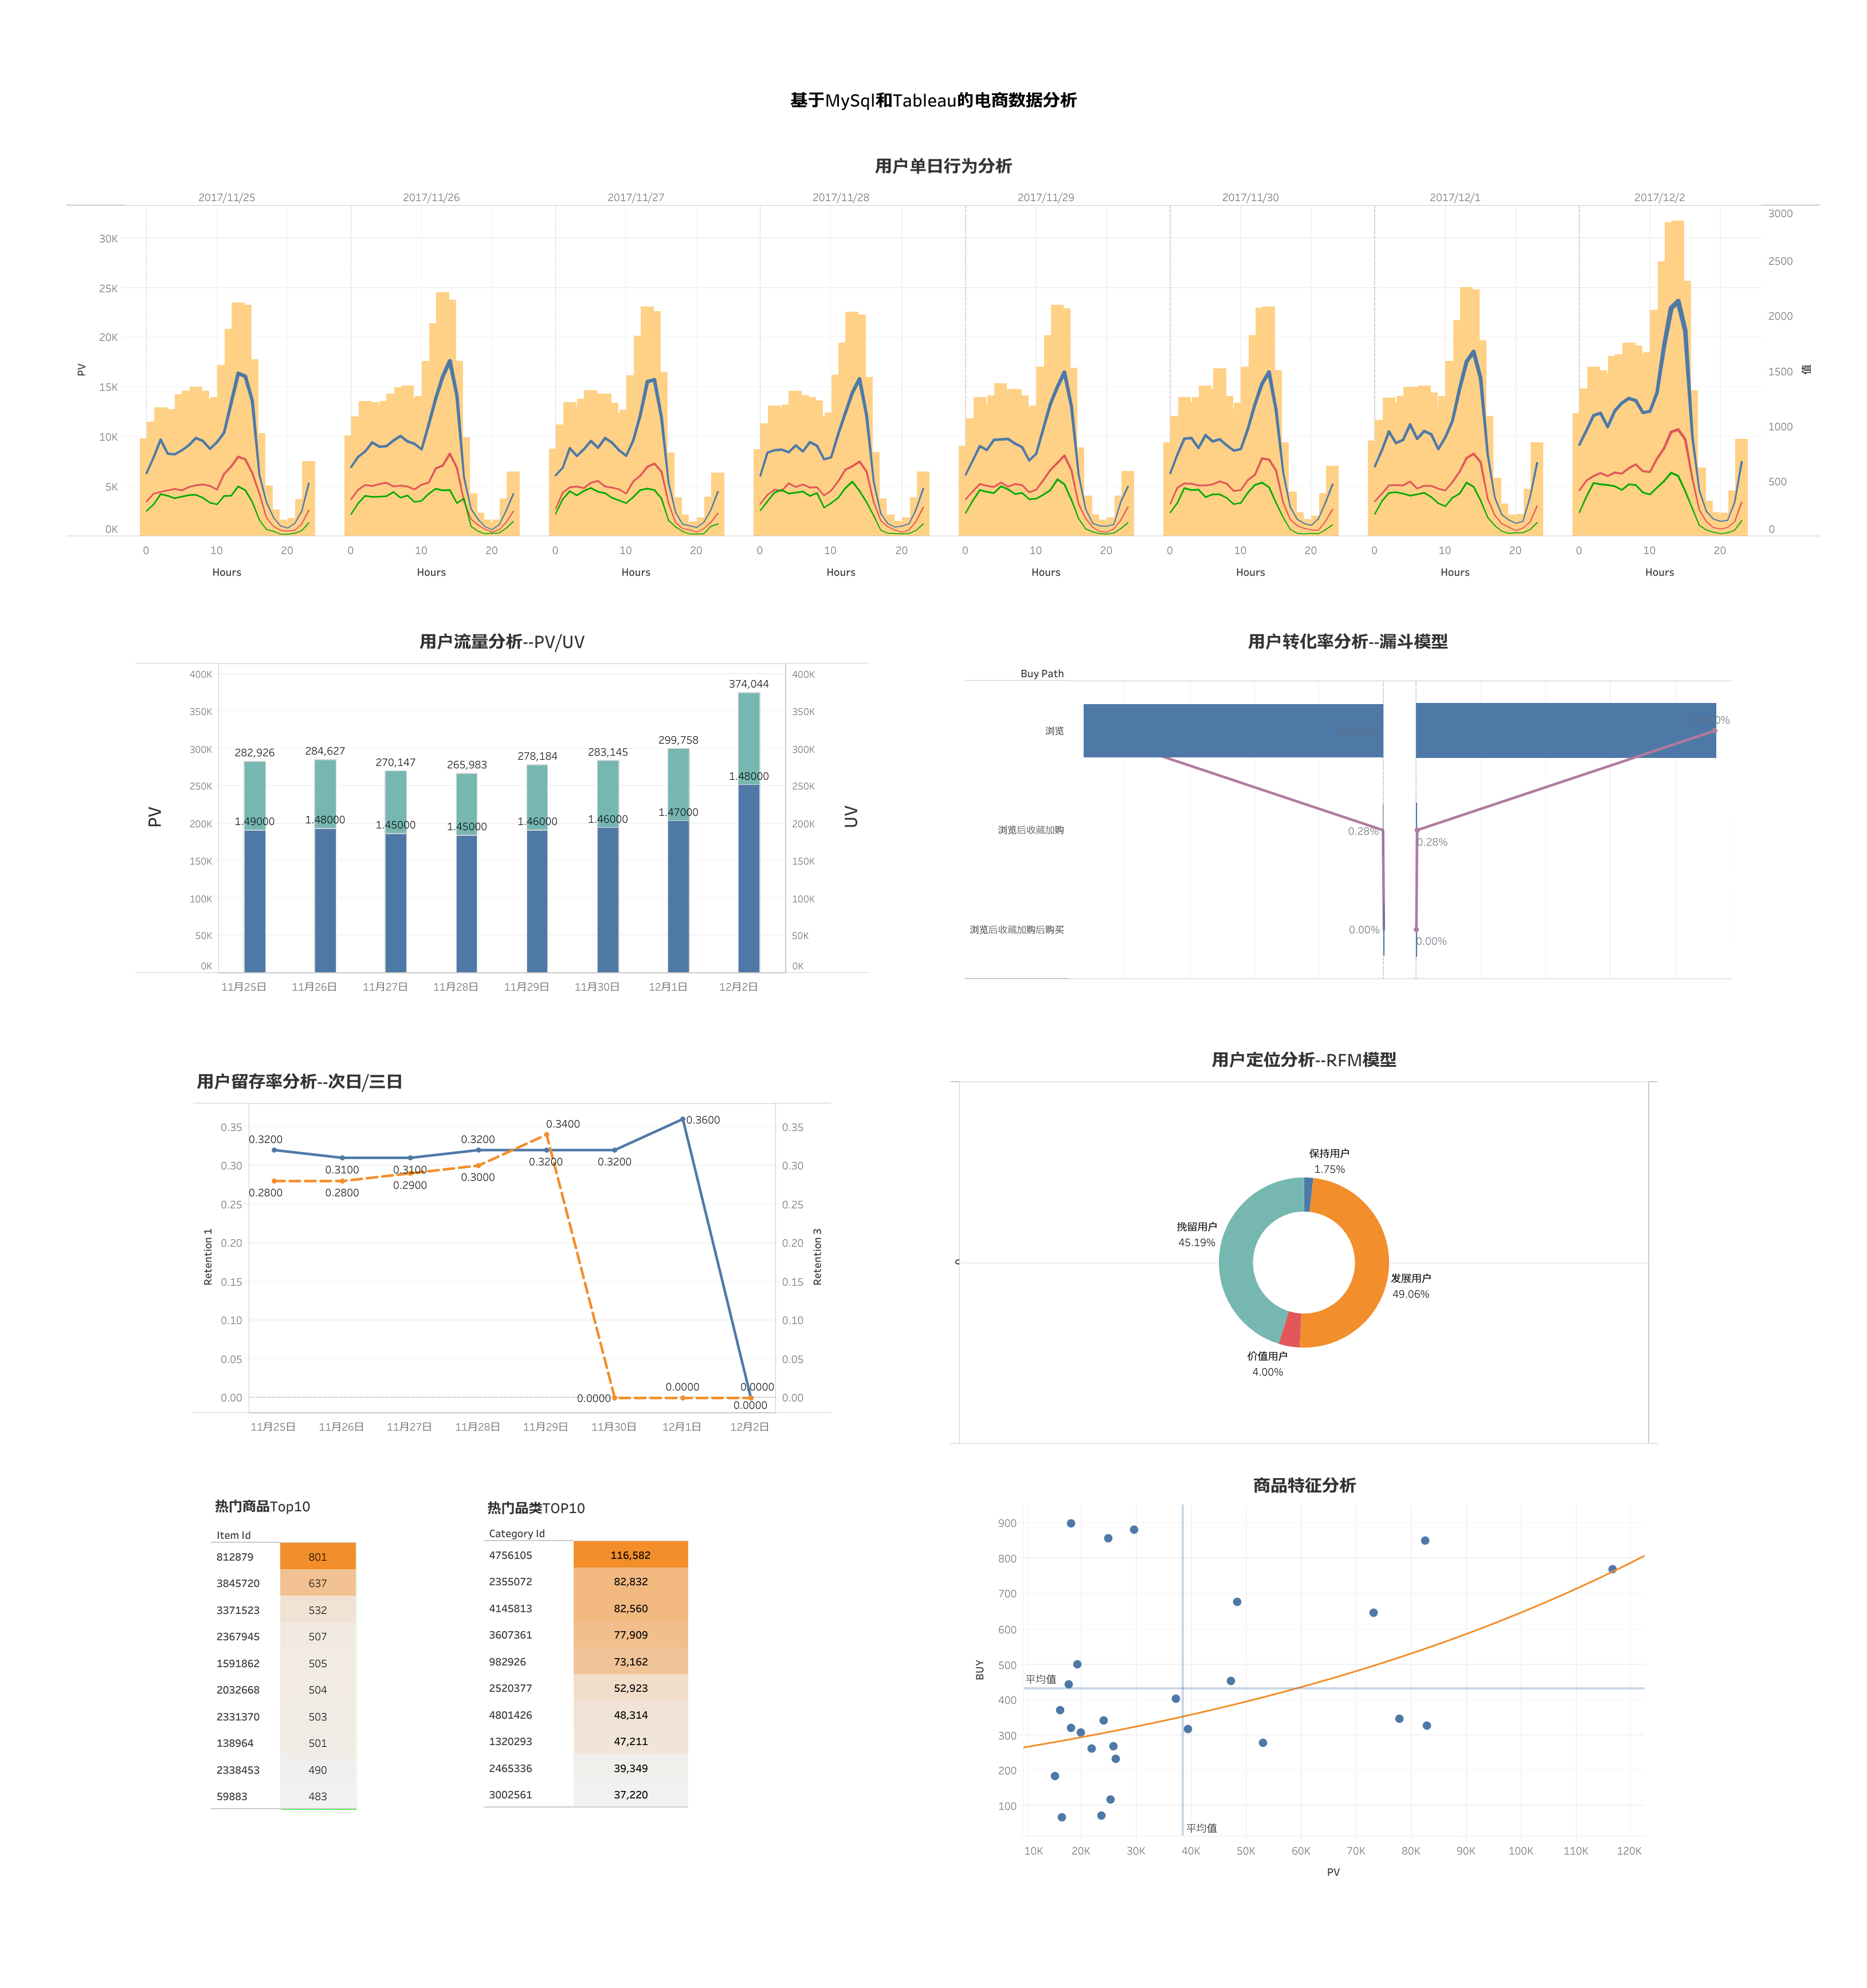

The dashboard page shown, as its layout file describes it:
{"tool":"tableau","page":{"name":"仪表板 1","canvas":[2244,3000],"ordinal":0},"visuals":[{"type":"worksheet","title":"用户行为分析","mark":"Automatic","rows":["PV"],"cols":["dates","hours"],"box":[90,232,2040,509]},{"type":"worksheet","title":"用户流量分析--PV/UV","mark":"Bar","rows":["PV","UV"],"cols":["dates"],"box":[170,785,853,437]},{"type":"worksheet","title":"用户转化率分析","mark":"Automatic","rows":["buy_path"],"cols":["buy_path_num","buy_path_num"],"box":[1135,785,891,414]},{"type":"worksheet","title":"用户定位分析","mark":"Pie","rows":["Calculation_0225451677646857","Calculation_0225451677659147"],"box":[1118,1272,823,468]},{"type":"worksheet","title":"用户留存分析","mark":"Automatic","rows":["retention_1","retention_3"],"cols":["dates"],"box":[237,1297,742,437]},{"type":"worksheet","title":"商品特征分析","mark":"Automatic","rows":["BUY"],"cols":["PV"],"box":[1135,1767,790,486]},{"type":"worksheet","title":"商品热度分析","mark":"Square","rows":["item_id"],"box":[258,1794,321,437]},{"type":"worksheet","title":"热门品类","mark":"Square","rows":["category_id"],"box":[575,1796,363,379]}]}

Visuals, with their boxes on the page's 2244x3000 design canvas (x1, y1, x2, y2). These are canvas units, not pixel positions in the 1867x1988 screenshot, which may show the page scaled, cropped or inside an application window:
"用户行为分析" worksheet: bbox(90, 232, 2130, 741)
"用户流量分析--PV/UV" worksheet (Bar marks): bbox(170, 785, 1023, 1222)
"用户转化率分析" worksheet: bbox(1135, 785, 2026, 1199)
"用户定位分析" worksheet (Pie marks): bbox(1118, 1272, 1941, 1740)
"用户留存分析" worksheet: bbox(237, 1297, 979, 1734)
"商品特征分析" worksheet: bbox(1135, 1767, 1925, 2253)
"商品热度分析" worksheet (Square marks): bbox(258, 1794, 579, 2231)
"热门品类" worksheet (Square marks): bbox(575, 1796, 938, 2175)
